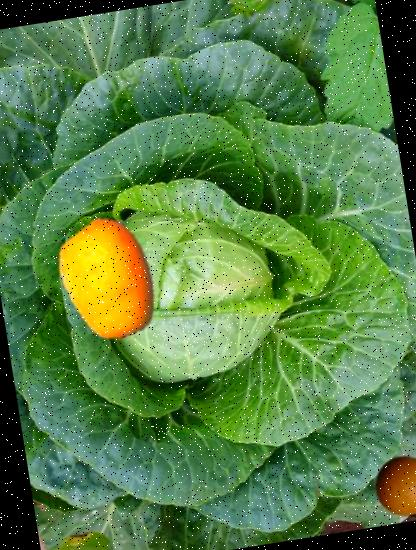Kumquats: (38, 210, 178, 350)
Orange: (369, 449, 416, 520)
